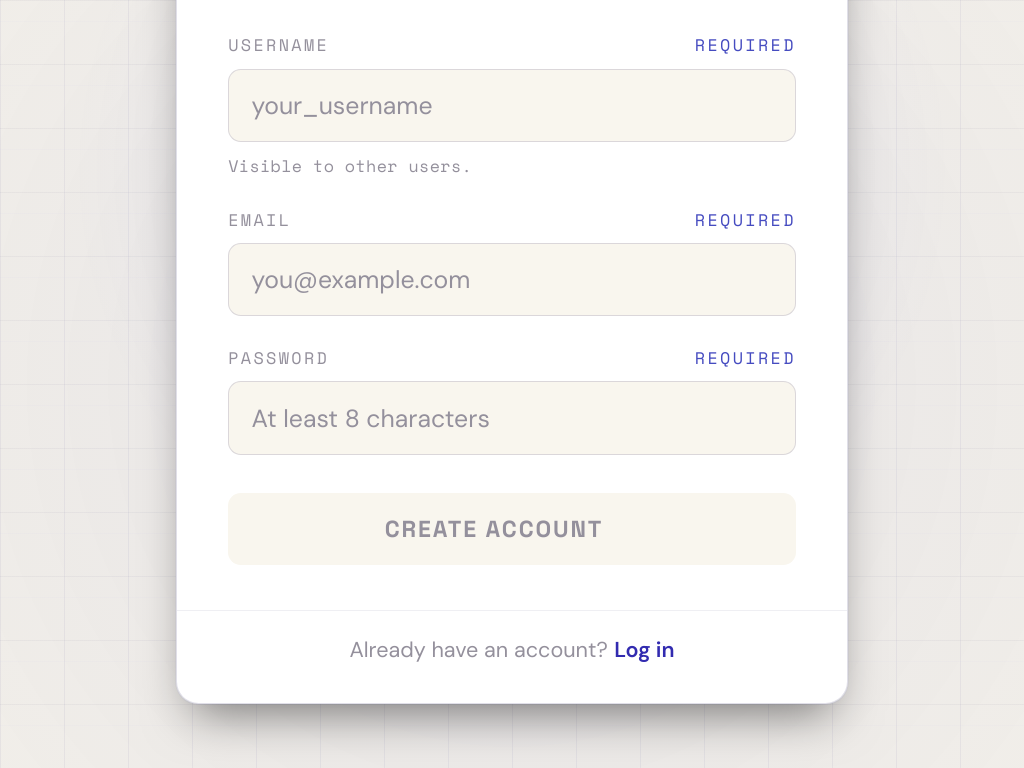
Test case: shows password strength meter when password is typed
This screenshot has width=1024, height=768.
(page scrolled)
Type "pass" into the password field with placeholder "At least 8 characters". click: point(512, 418)
box: [228, 382, 796, 455]
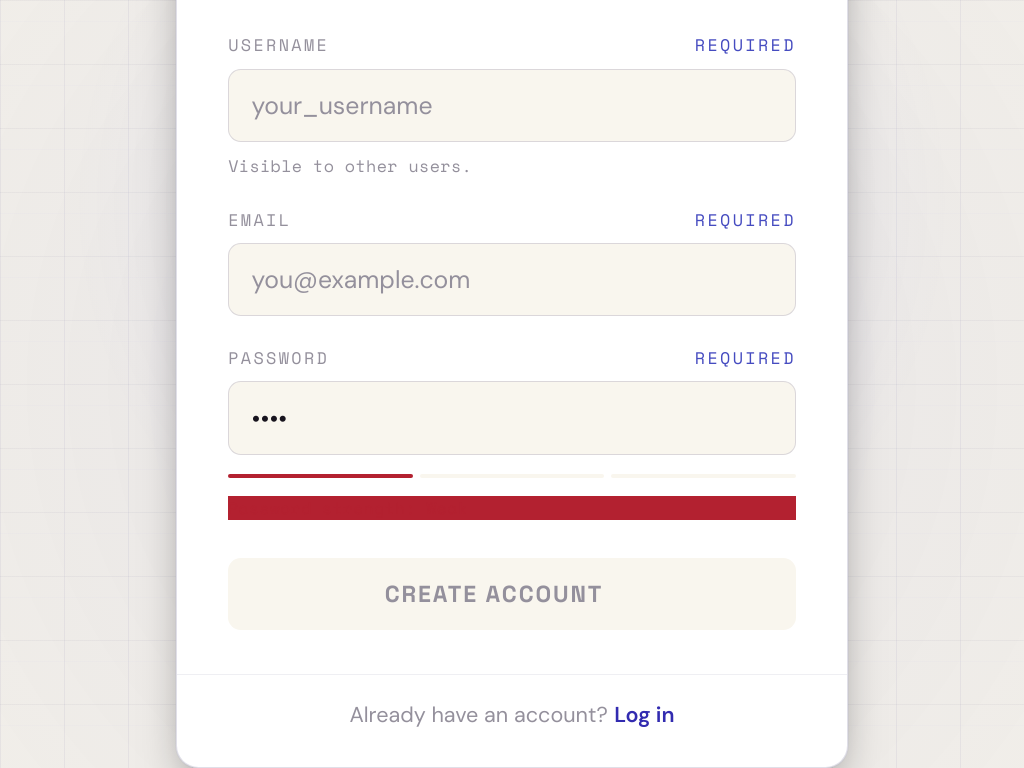
Now the text "Password strength: Weak" is shown, box [228, 496, 796, 520]
